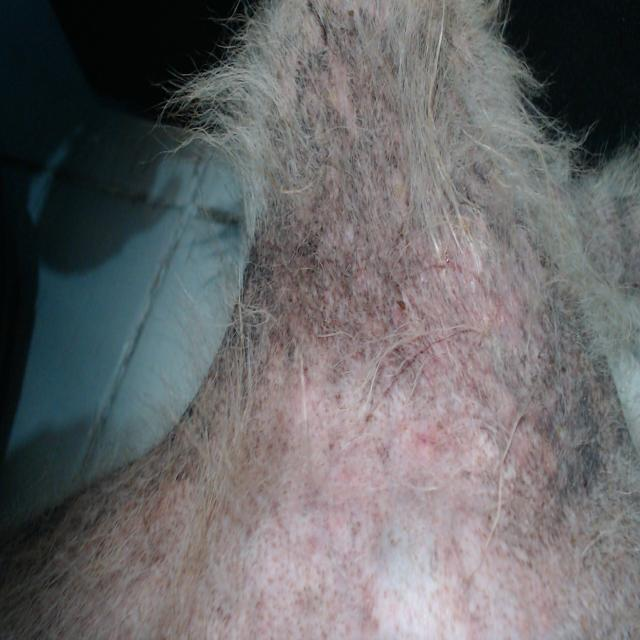demodicosis: (284, 61, 506, 405)
